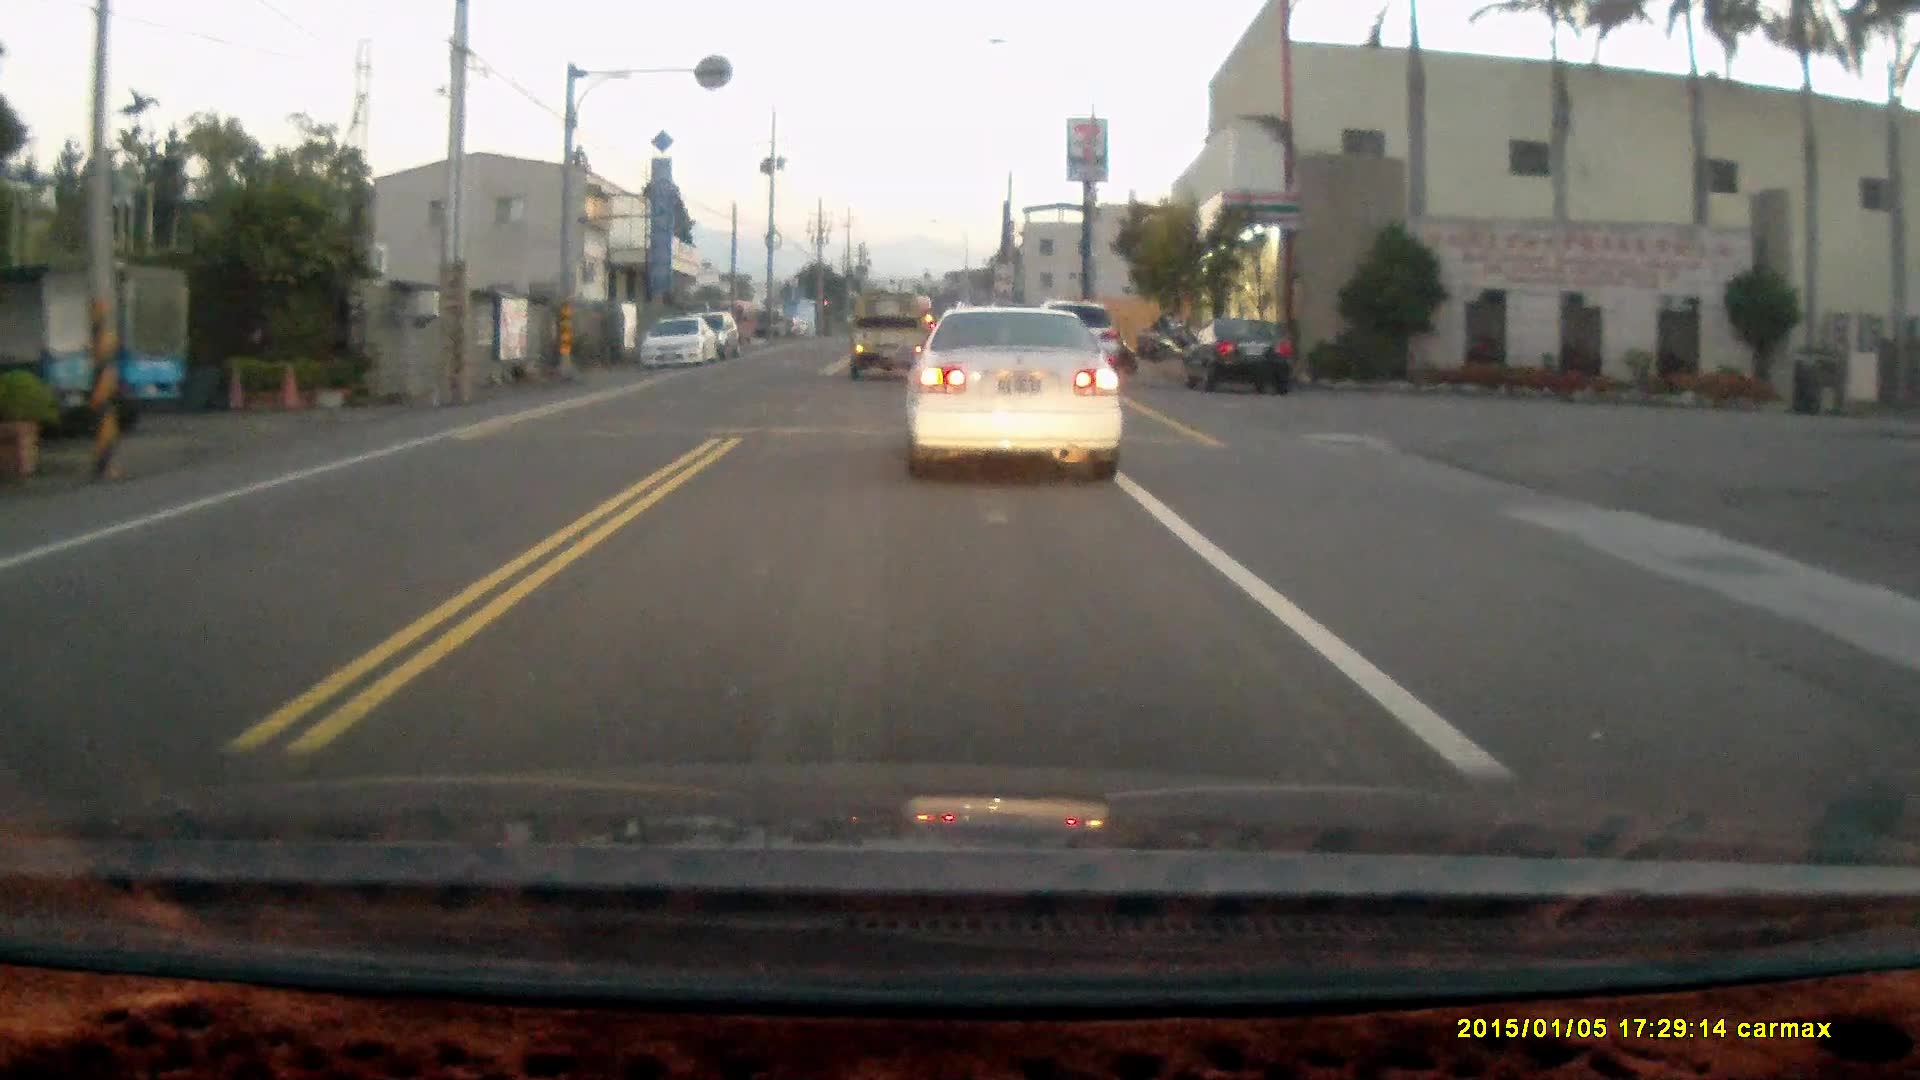vehicle: (911, 303, 1131, 487), (1178, 320, 1292, 400), (844, 284, 934, 373), (632, 313, 721, 369)
